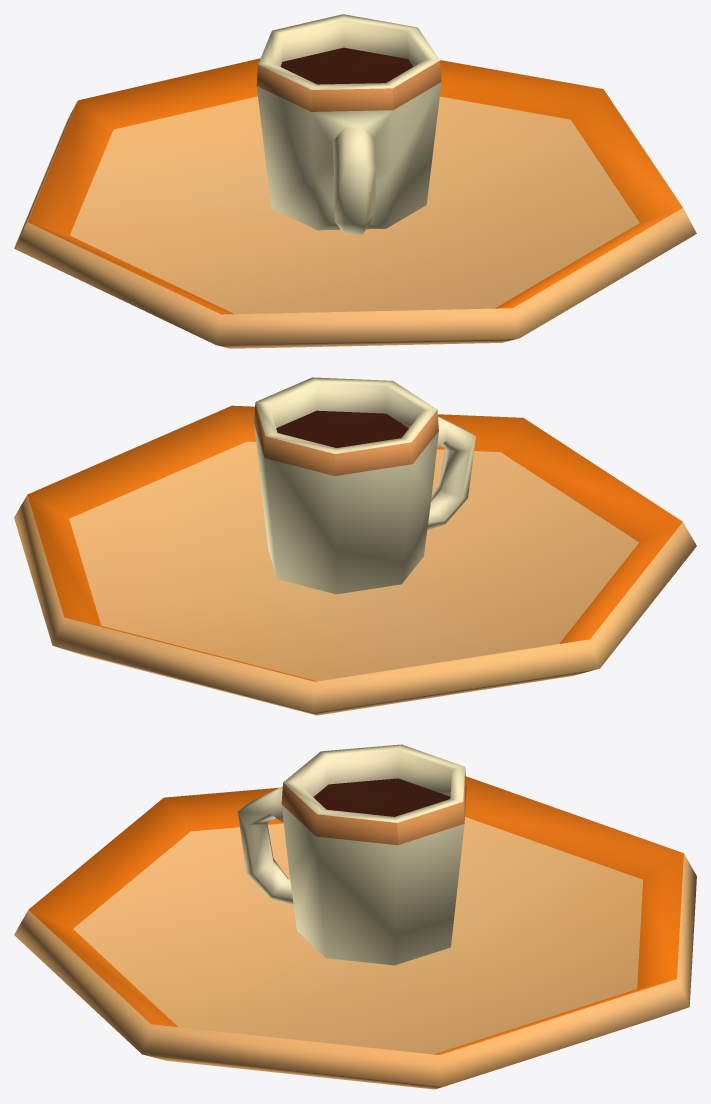
The model's file is coffe.glb.
The picture shows the model from 3 angles, top to bottom: view 1: azimuth 30°, elevation 25°; view 2: azimuth 150°, elevation 25°; view 3: azimuth 270°, elevation 25°; orthographic projection.
Parts seen in each view (by area): view 1: Circle.001, Cylinder; view 2: Circle.001, Cylinder; view 3: Circle.001, Cylinder.
Part boxes in pixels (x1=…): Circle.001: x1=14, y1=58, x2=696, y2=348; Cylinder: x1=256, y1=14, x2=441, y2=234; Circle.001: x1=14, y1=405, x2=696, y2=715; Cylinder: x1=254, y1=377, x2=475, y2=594; Circle.001: x1=14, y1=776, x2=696, y2=1089; Cylinder: x1=238, y1=744, x2=466, y2=965.
Bounding box in the file's own units: 0.4388 × 0.1207 × 0.4301.
1 material, 1 textured.
